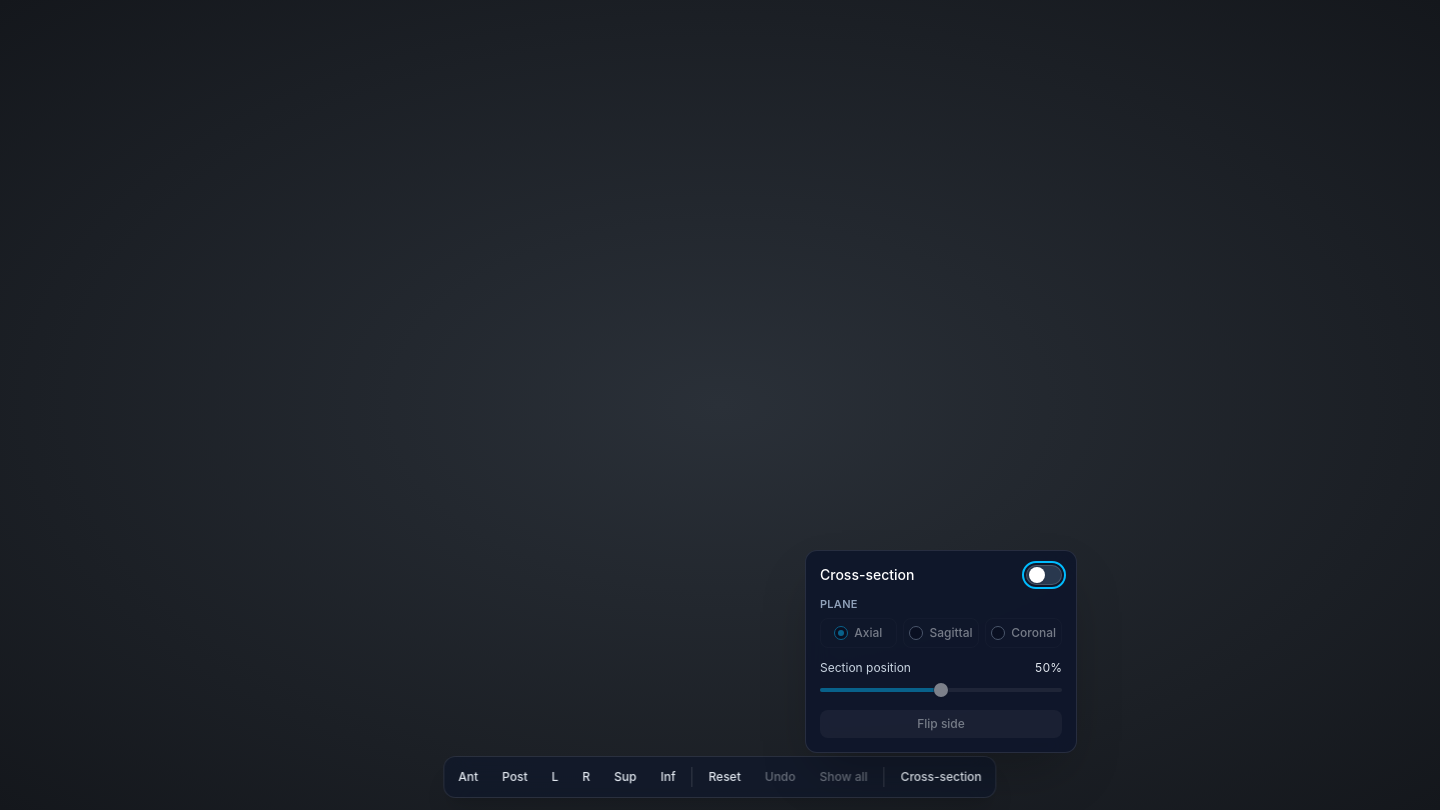
Test: SectionPopover › enables and configures cross-section from the toolbar button
Earlier steps of the test are not shown.
Later steps or results of the test are not shown.
Click the switch named "Cross-section".
click(1044, 575)  # box [1026,565,1062,585]
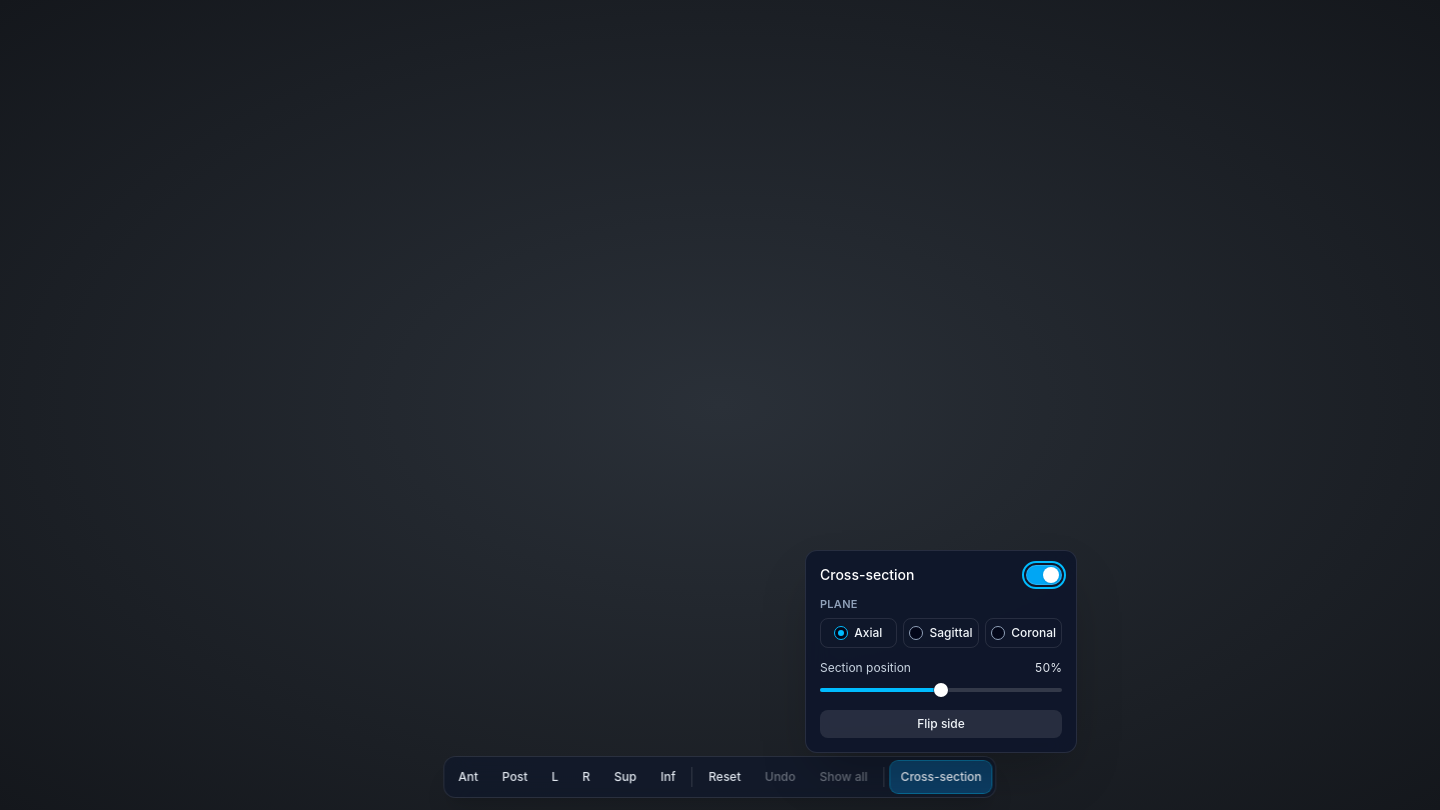
Now the button "Cross-section" is pressed, box [891,761,992,793]
Click the radio button named "Coronal".
click(998, 633)  # box [991,626,1005,640]
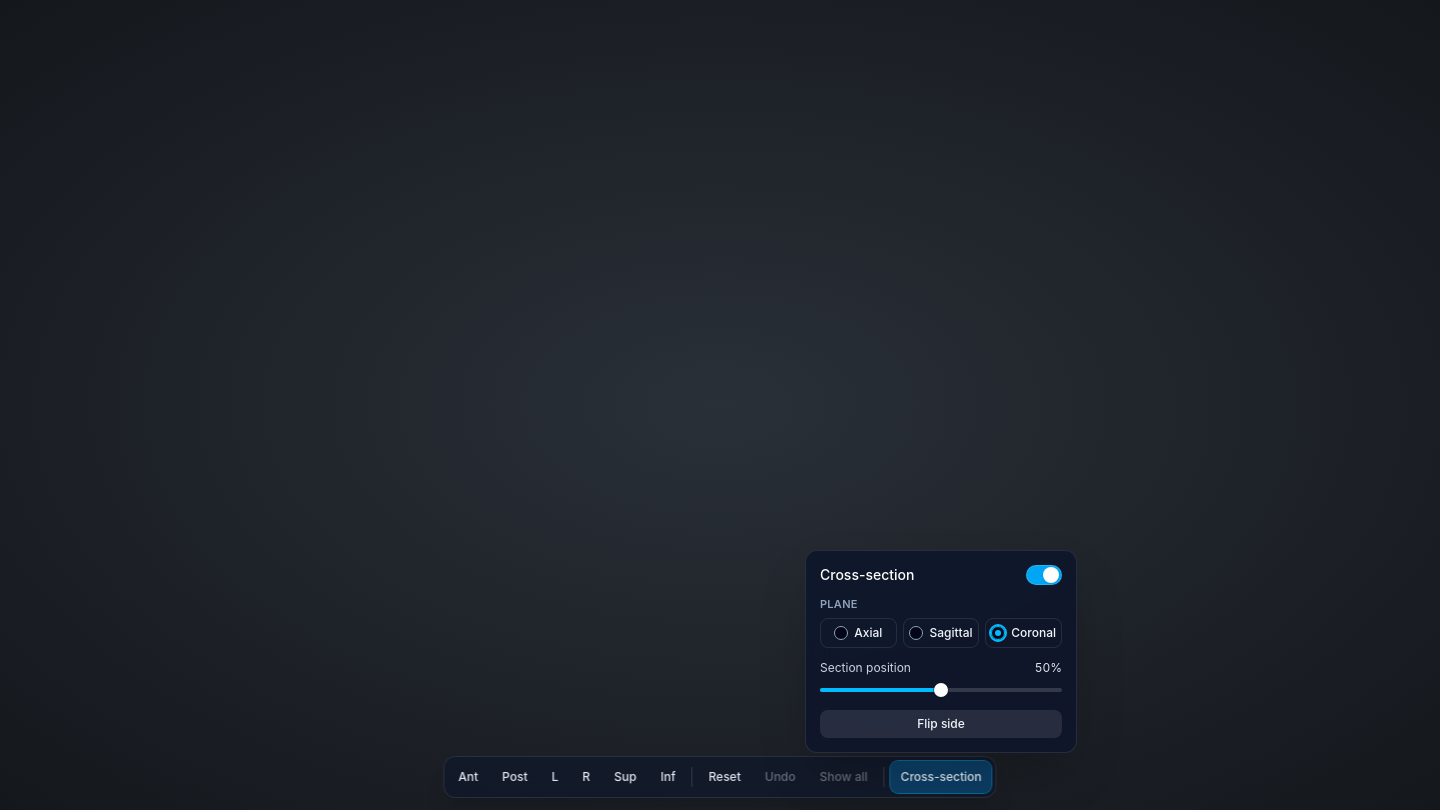
Press Arrowleft
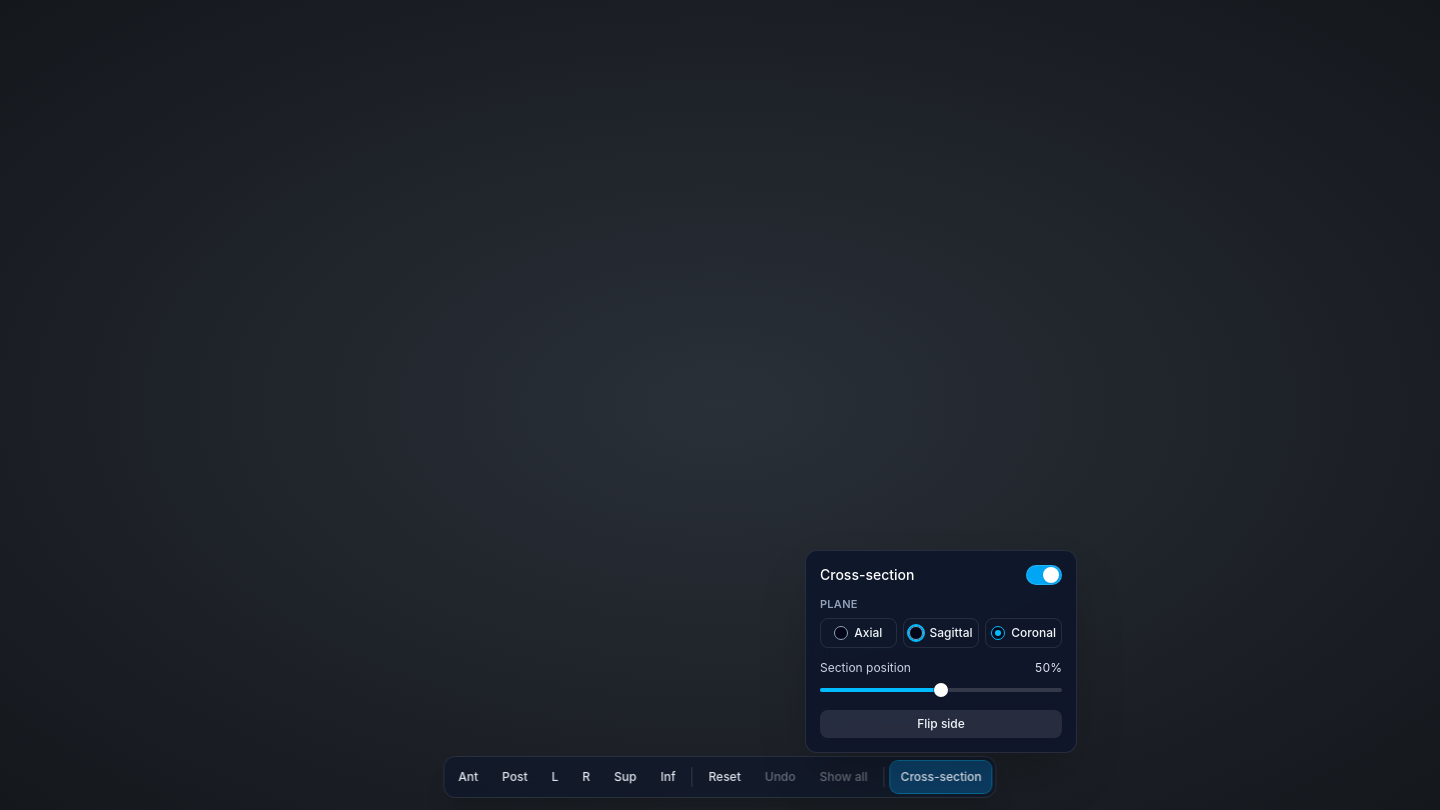
Type keys " "
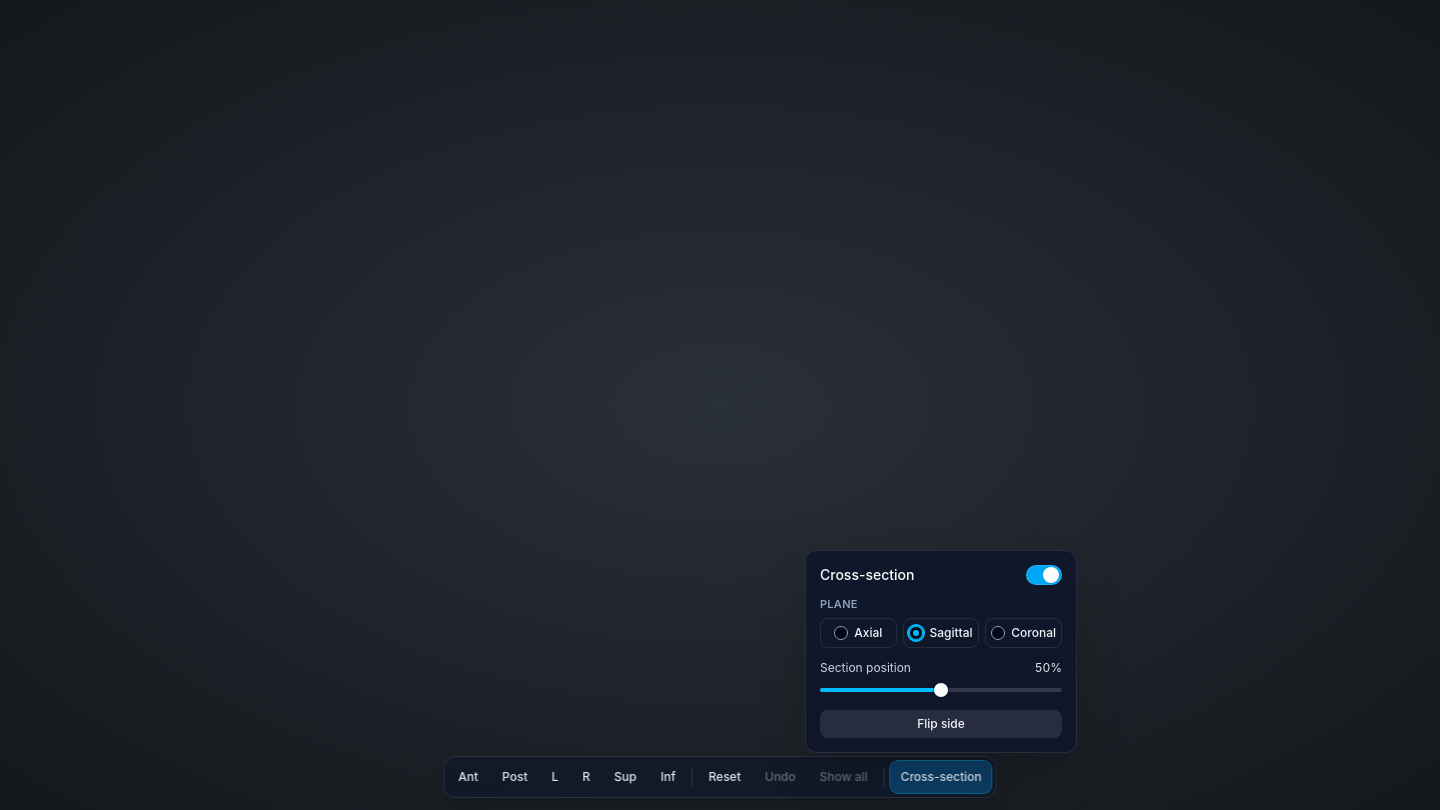
Click the radio button named "Coronal".
click(998, 633)  # box [991,626,1005,640]
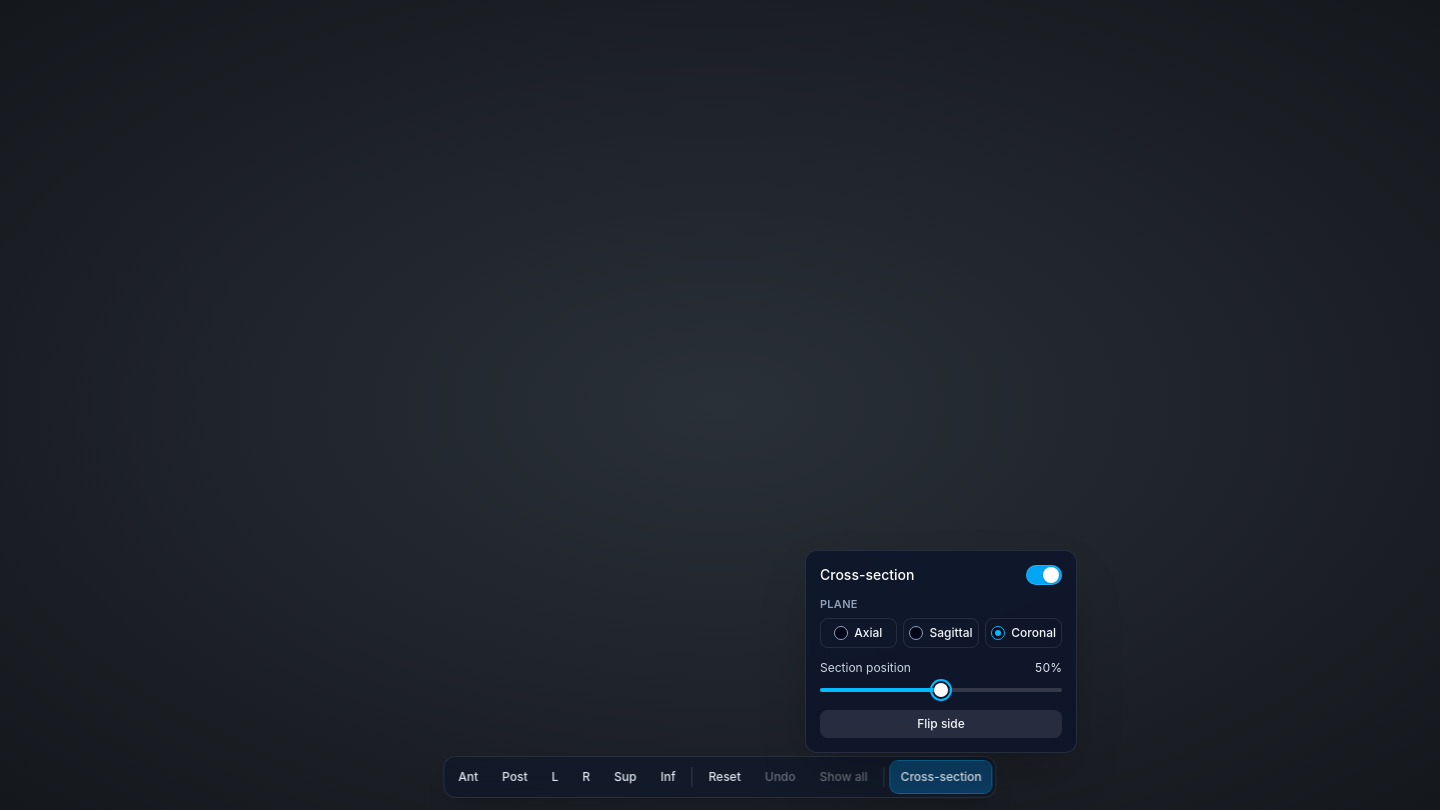
Press End
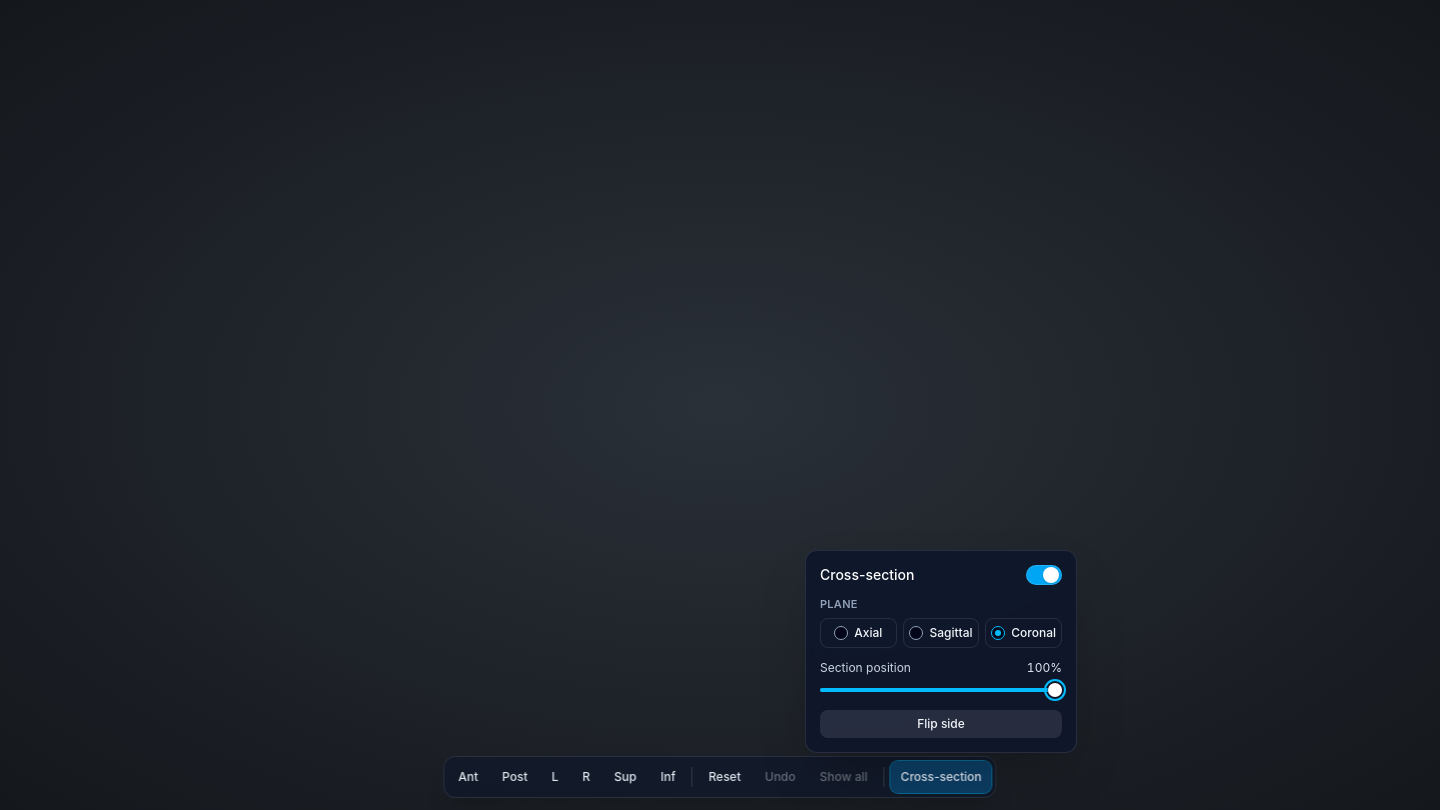
Now the text "100%" is shown, box [1027,660,1062,676]
